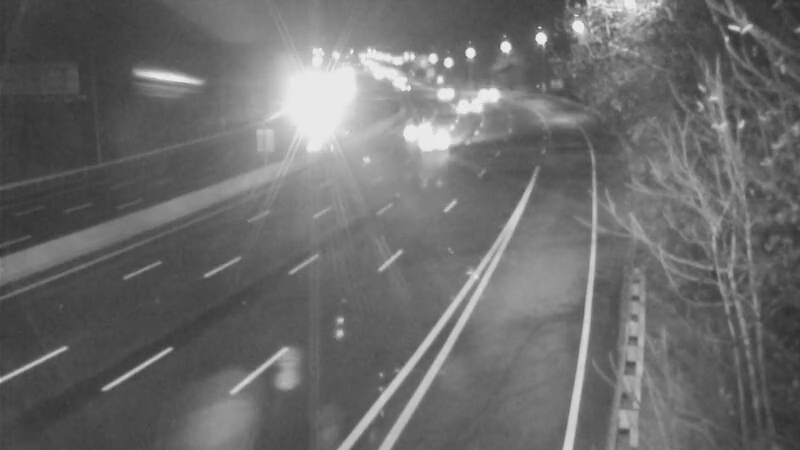vehicle: (381, 61, 431, 111), (416, 67, 466, 117), (459, 66, 509, 116), (442, 77, 492, 127), (389, 100, 439, 150), (413, 116, 463, 166), (285, 78, 335, 128)
